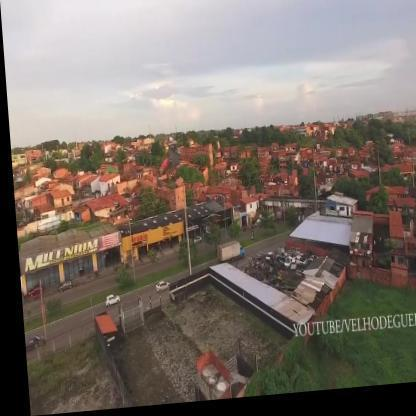lixo: (245, 259, 273, 286), (275, 249, 300, 275)
